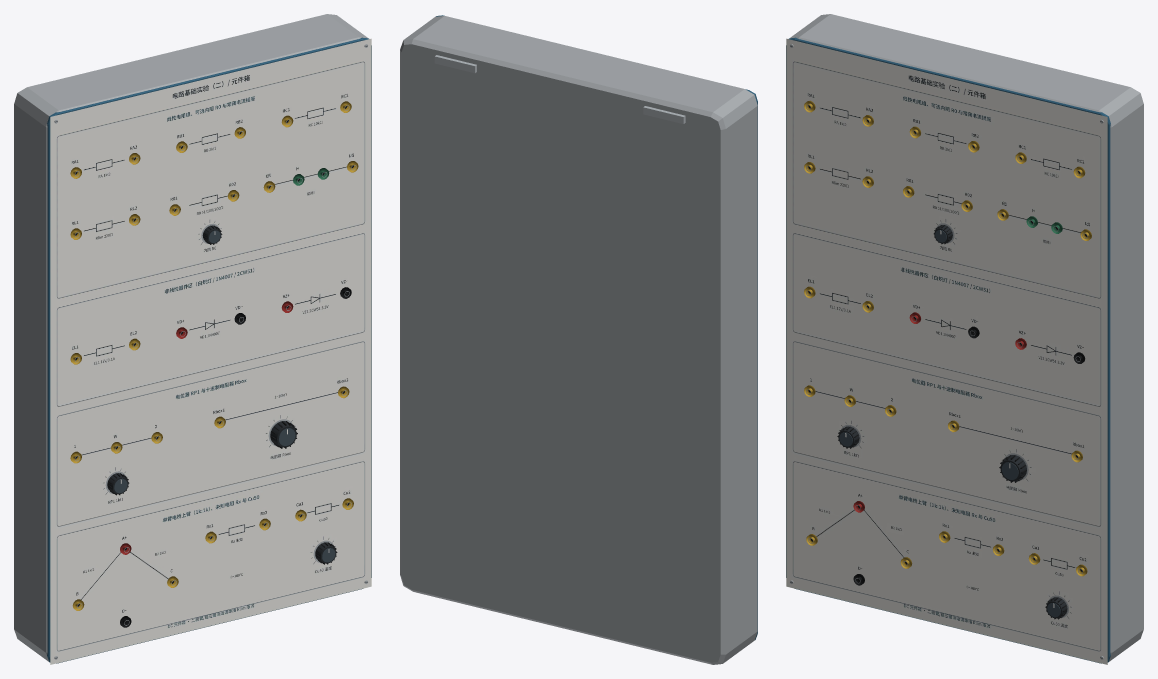
File: module.glb
3 renders of one model, left to right at view 1: azimuth 30°, elevation 25°; view 2: azimuth 150°, elevation 25°; view 3: azimuth 330°, elevation 25°, orthographic.
Visible parts, largest first — view 1: PANEL_silkscreen, STATIC_paint, STATIC_metal, MOVING_RBOX_paint; view 2: STATIC_paint, STATIC_metal; view 3: PANEL_silkscreen, STATIC_paint, STATIC_metal, MOVING_RBOX_paint.
Boxes of the visible parts, x1,y1,x2,y2 form: PANEL_silkscreen: (50, 38, 371, 664); STATIC_paint: (14, 14, 371, 663); STATIC_metal: (54, 44, 367, 659); MOVING_RBOX_paint: (270, 421, 297, 448); STATIC_paint: (400, 15, 757, 664); STATIC_metal: (434, 55, 685, 123); PANEL_silkscreen: (786, 38, 1107, 664); STATIC_paint: (786, 14, 1143, 663); STATIC_metal: (790, 44, 1103, 659); MOVING_RBOX_paint: (999, 455, 1026, 482).
Bounding box in the file's own units: 0.29 × 0.47 × 0.0688.
7 materials, 1 textured.
